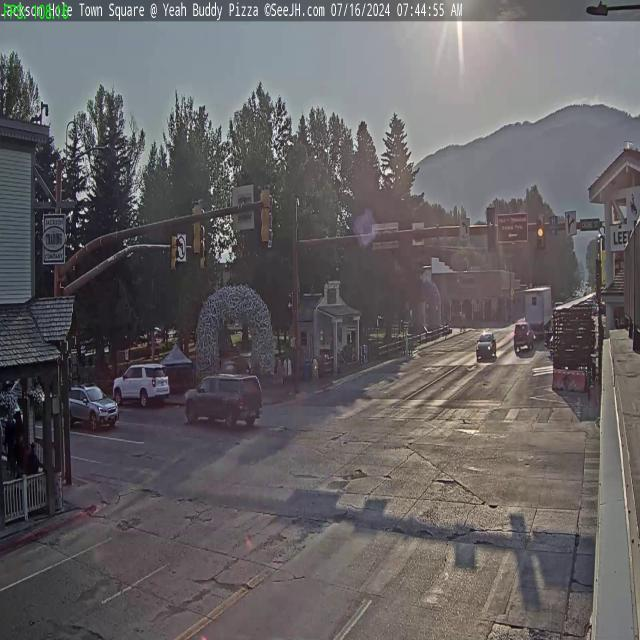person: (2, 414, 16, 484)
sedan: (476, 329, 496, 361)
suv: (112, 361, 170, 408), (66, 382, 118, 432), (512, 320, 532, 350)
traffic light: (259, 184, 272, 246), (190, 199, 203, 256), (486, 207, 496, 252), (170, 234, 178, 273), (536, 214, 544, 249)
truck: (182, 372, 264, 430)
